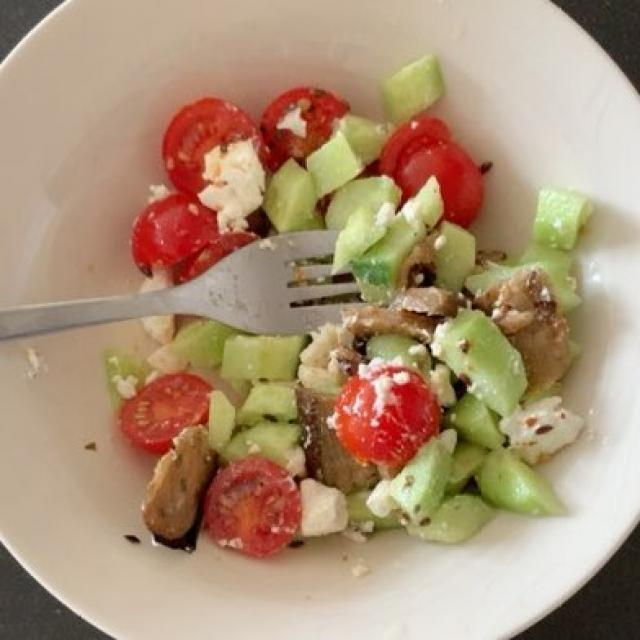eggplant: (142, 232, 585, 556)
salad: (140, 63, 586, 549)
